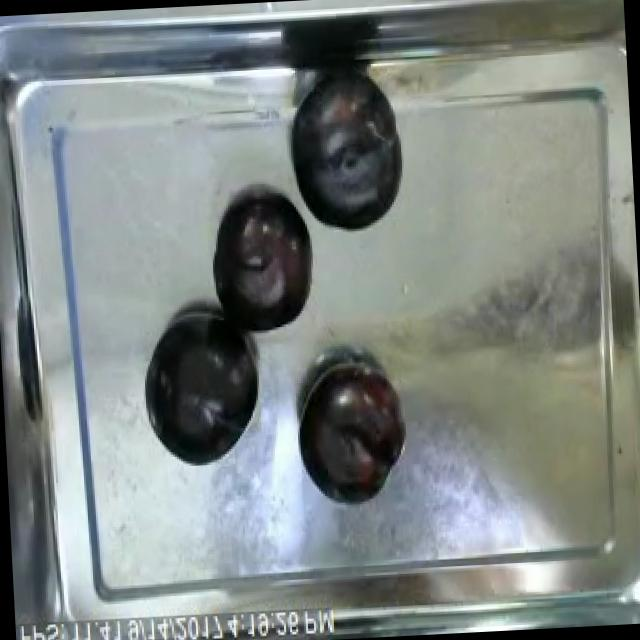Fruit: (133, 302, 270, 476), (277, 70, 412, 242), (290, 353, 416, 515), (203, 188, 323, 344)
